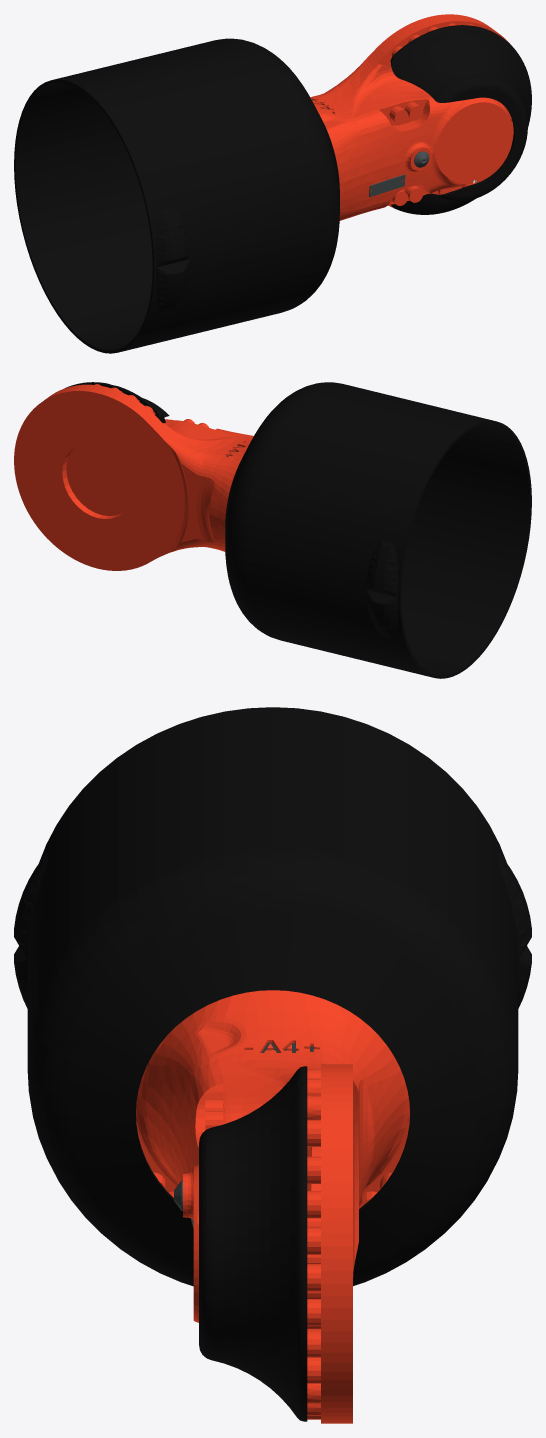
3 renders of one model, top to bottom at view 1: azimuth 30°, elevation 25°; view 2: azimuth 150°, elevation 25°; view 3: azimuth 270°, elevation 25°, orthographic. The views are drawn at different scales.
Parts seen in each view (by area): view 1: link_4; view 2: link_4; view 3: link_4.
Part boxes in pixels (left/top/right/bottom): link_4: left=14, top=14, right=531, bottom=353; link_4: left=14, top=382, right=531, bottom=678; link_4: left=14, top=707, right=531, bottom=1423.
Size of the model in its own units: 0.6061 by 0.3399 by 0.322.
